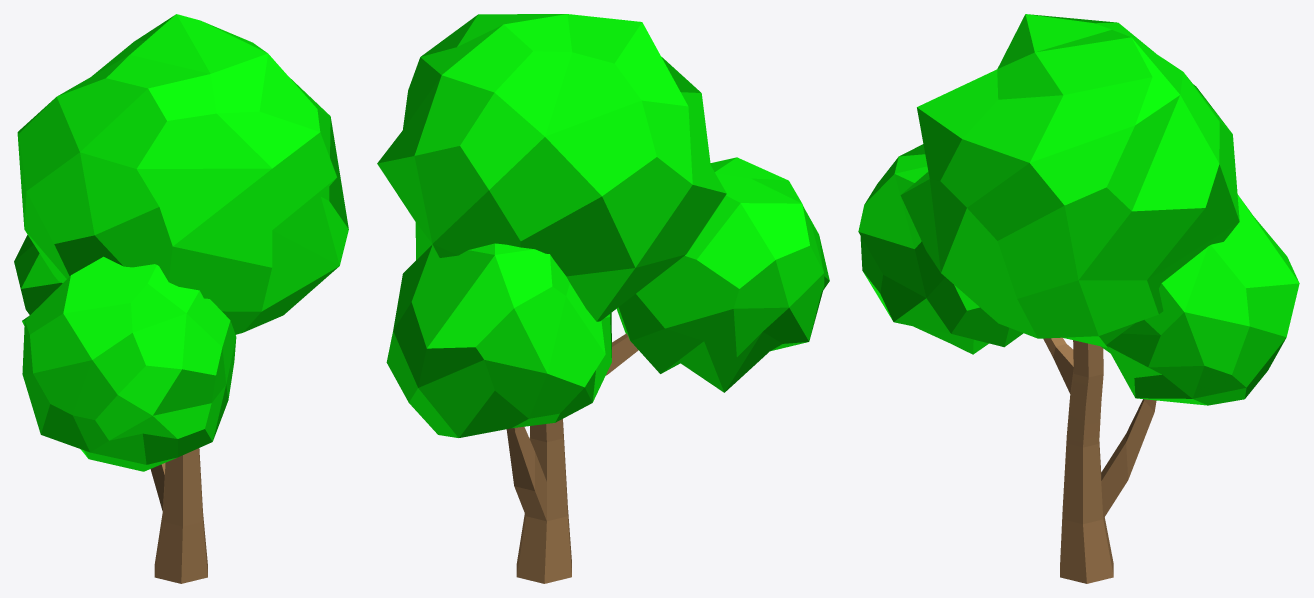
The model's file is SM_Tree_04.fbx.
3 renders of one model, left to right at view 1: azimuth 30°, elevation 25°; view 2: azimuth 150°, elevation 25°; view 3: azimuth 270°, elevation 25°, orthographic. The views are drawn at different scales.
Visible parts, largest first — view 1: Tree_04; view 2: Tree_04; view 3: Tree_04.
Boxes of the visible parts, x1=… form: Tree_04: x1=14, y1=14, x2=348, y2=583; Tree_04: x1=377, y1=14, x2=829, y2=583; Tree_04: x1=858, y1=14, x2=1299, y2=583.
Bounding box in the file's own units: 1006 × 1487 × 1097.
